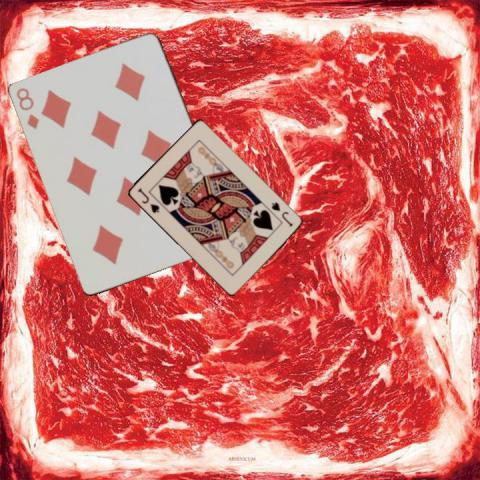8d: (13, 85, 42, 131)
Js: (134, 184, 161, 214), (268, 199, 294, 228)
